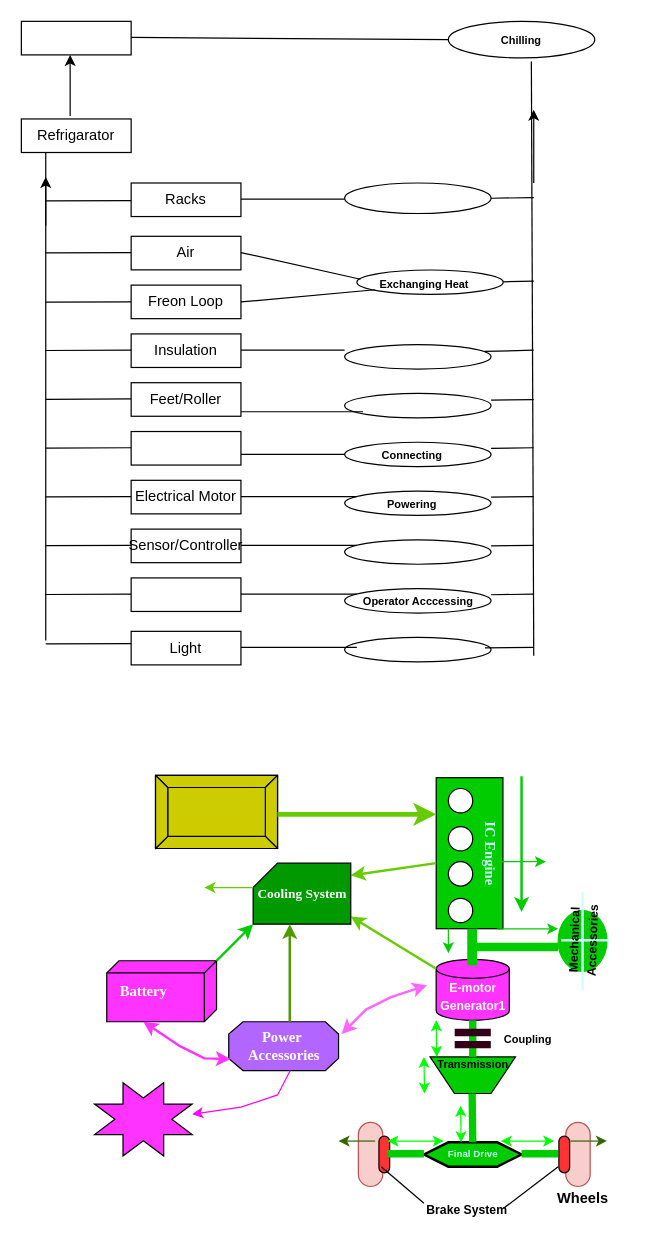
Some shapes in this 647 by 1249 pixel diagram are drawn without their labels. Each missing label, with the box of its shape:
Chiller: (20, 20, 131, 55)
Door: (130, 577, 241, 611)
Electrical Accessories: (93, 1082, 192, 1156)
Frame: (130, 430, 241, 465)
Fuel Tank: (154, 774, 278, 849)
Holding Food: (343, 182, 491, 214)
Interfacing to support: (343, 392, 491, 418)
Operator Observing: (343, 636, 491, 662)
Reducing Heat Load: (343, 343, 491, 369)
Regurating Temp: (343, 539, 491, 564)
